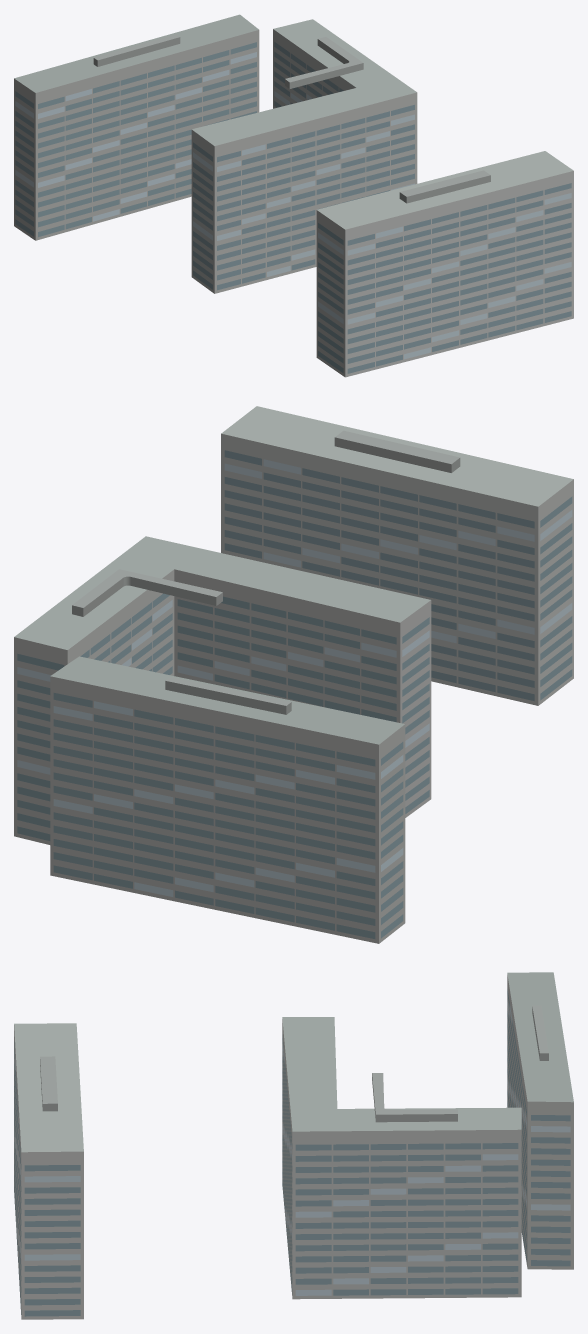
The model's file is apt-a15286802.glb.
The picture shows the model from 3 angles, top to bottom: view 1: azimuth 30°, elevation 25°; view 2: azimuth 150°, elevation 25°; view 3: azimuth 270°, elevation 25°; orthographic projection. The views are drawn at different scales.
Visible parts, largest first — view 1: apt-a15286802; view 2: apt-a15286802; view 3: apt-a15286802.
Part boxes in pixels (<box>): apt-a15286802: <box>14,14,573,377</box>; apt-a15286802: <box>14,406,573,943</box>; apt-a15286802: <box>14,972,573,1319</box>.
Size of the model in its own units: 105 by 47.81 by 139.
